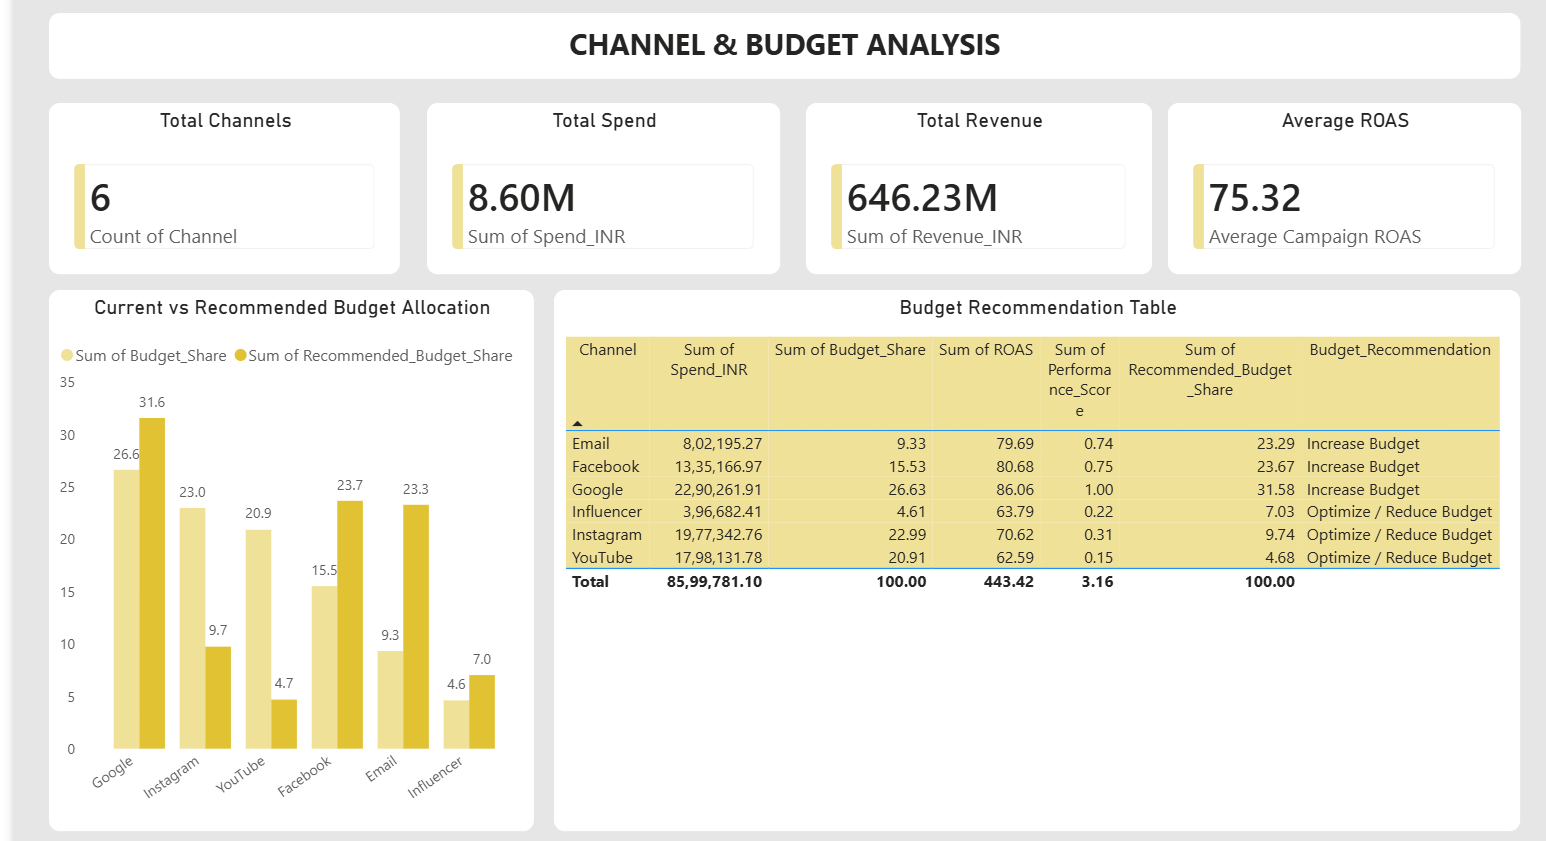

Layout of this report page (visuals, bound fields, positions):
{"tool":"powerbi","page":{"name":"Channel & Budget Analysis 2","canvas":[1280,720],"ordinal":4},"visuals":[{"type":"cardVisual","title":"Total Channels","fields":{"Data":["Count(marketing_campaign marketing_analytics.Channel)"]},"box":[29.3,94.2,293.5,143.1],"z":0},{"type":"cardVisual","title":"Total Spend","fields":{"Data":["Sum(marketing_campaign marketing_analytics.Spend_INR)"]},"box":[344.8,94.2,294.7,143.1],"z":1000},{"type":"cardVisual","title":"Total Revenue","fields":{"Data":["Sum(marketing_campaign marketing_analytics.Revenue_INR)"]},"box":[661.6,94.2,288.6,143.1],"z":2000},{"type":"cardVisual","title":"Average ROAS","fields":{"Data":["marketing_campaign marketing_analytics.Average Campaign ROAS"]},"box":[963.6,94.2,294.7,143.1],"z":3000},{"type":"clusteredColumnChart","title":"Current vs Recommended Budget Allocation","fields":{"Category":["channel_budget_recommendations.Channel"],"Y":["Sum(channel_budget_recommendations.Budget_Share)","Sum(channel_budget_recommendations.Recommended_Budget_Share)"]},"box":[29.3,250.7,404.8,452.4],"z":4000},{"type":"tableEx","title":"Budget Recommendation Table","fields":{"Values":["channel_budget_recommendations.Channel","Sum(channel_budget_recommendations.Spend_INR)","Sum(channel_budget_recommendations.Budget_Share)","Sum(channel_budget_recommendations.ROAS)","Sum(channel_budget_recommendations.Performance_Score)","Sum(channel_budget_recommendations.Recommended_Budget_Share)","channel_budget_recommendations.Budget_Recommendation"]},"box":[451.2,250.9,807.1,452.4],"z":5000},{"type":"textbox","box":[29,19.3,1229.4,55.5],"z":6000}]}

Visuals, with their boxes on the page's 1280x720 design canvas (x1, y1, x2, y2). These are canvas units, not pixel positions in the 1546x841 screenshot, which may show the page scaled, cropped or inside an application window:
"Total Channels" cardVisual: locate(29, 94, 323, 237)
"Total Spend" cardVisual: locate(345, 94, 640, 237)
"Total Revenue" cardVisual: locate(662, 94, 950, 237)
"Average ROAS" cardVisual: locate(964, 94, 1258, 237)
"Current vs Recommended Budget Allocation" clusteredColumnChart: locate(29, 251, 434, 703)
"Budget Recommendation Table" tableEx: locate(451, 251, 1258, 703)
textbox: locate(29, 19, 1258, 75)
